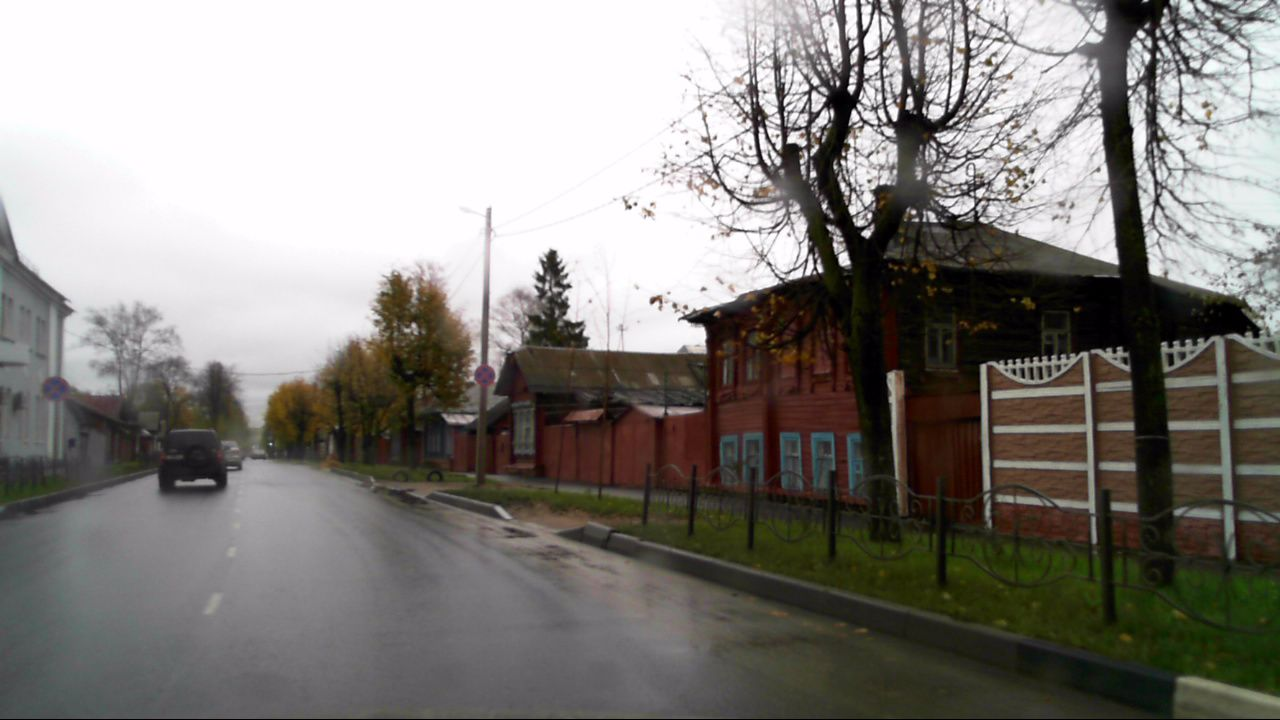No Parking: (42, 375, 70, 403)
